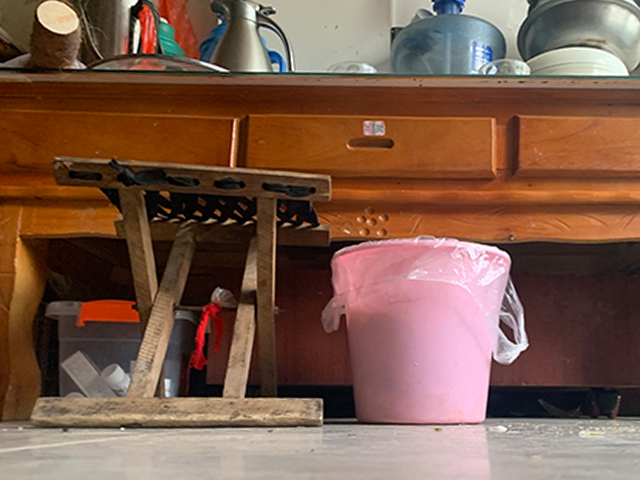stool: (29, 157, 332, 428)
table: (1, 65, 640, 424)
trashcan: (332, 237, 512, 424)
